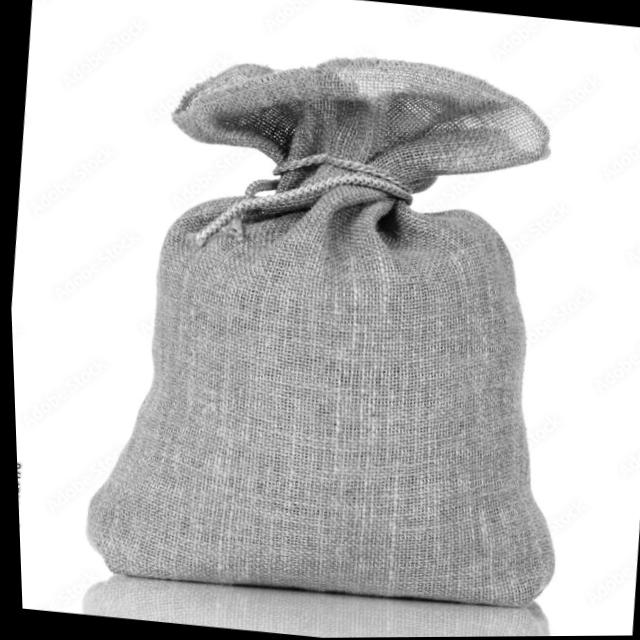sack: (61, 29, 601, 619)
